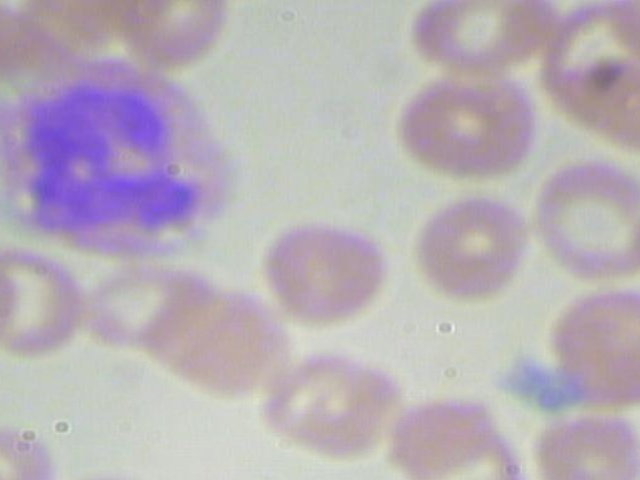WBC: (0, 57, 262, 265)
